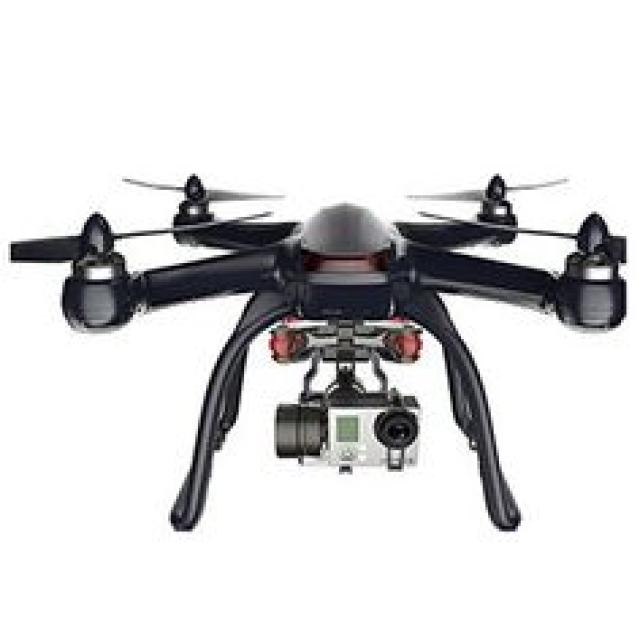drone: (12, 102, 640, 521)
